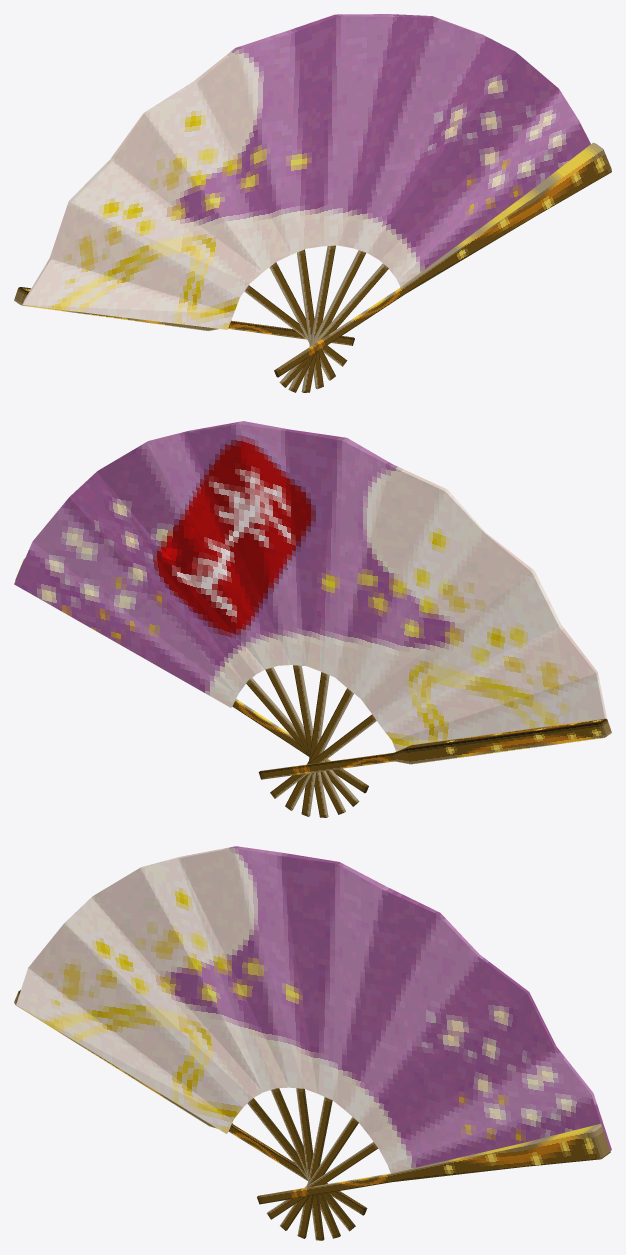
File: ps2_save-icons_pachittechonmagetatsujin11.glb
3 views of the same model, one above another, from view 1: azimuth 30°, elevation 25°; view 2: azimuth 150°, elevation 25°; view 3: azimuth 330°, elevation 25° (orthographic). The views are drawn at different scales.
Parts seen in each view (by area): view 1: view.ico; view 2: view.ico; view 3: view.ico.
Boxes of the visible parts, left/top/right/bottom form: view.ico: left=14, top=14, right=611, bottom=392; view.ico: left=14, top=421, right=611, bottom=817; view.ico: left=14, top=846, right=611, bottom=1240.
Bounding box in the file's own units: 4.5 × 2.72 × 0.2446.
1 material, 1 textured.
